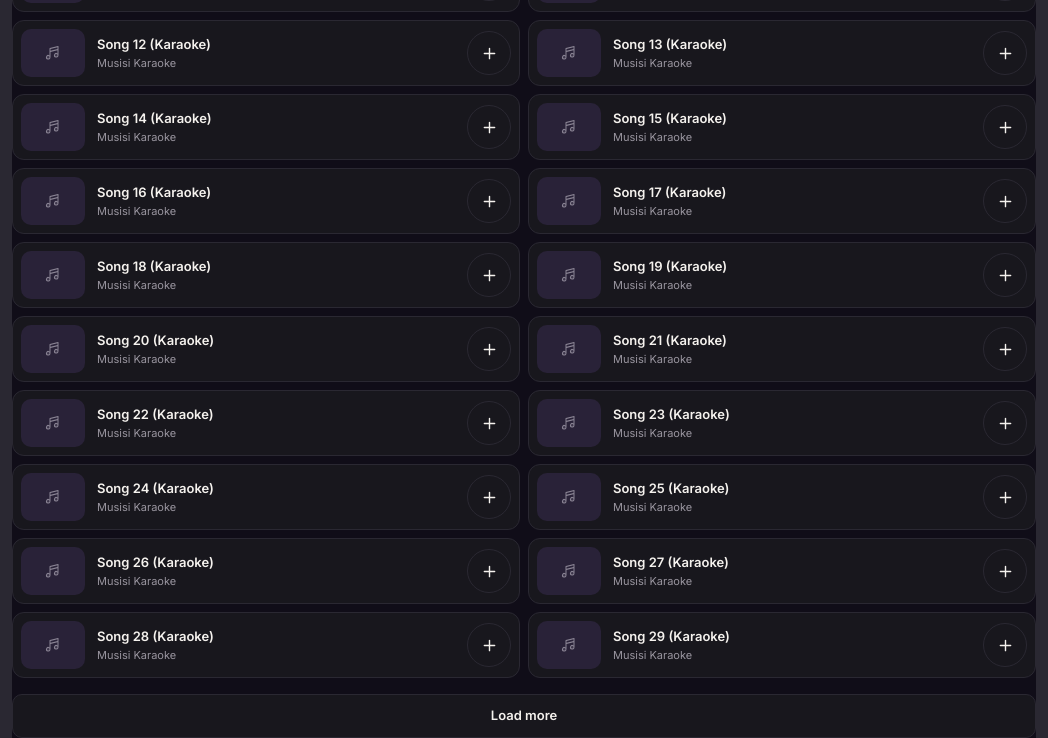
songbook list › appends a page without repeating a song already on screen
The image size is (1048, 738).
(page scrolled)
What coordinates should you click on to do the following:
click the button "Load more"
I would click on:
 (524, 716)
Its box is x1=12 y1=694 x2=1036 y2=737.
(page scrolled)
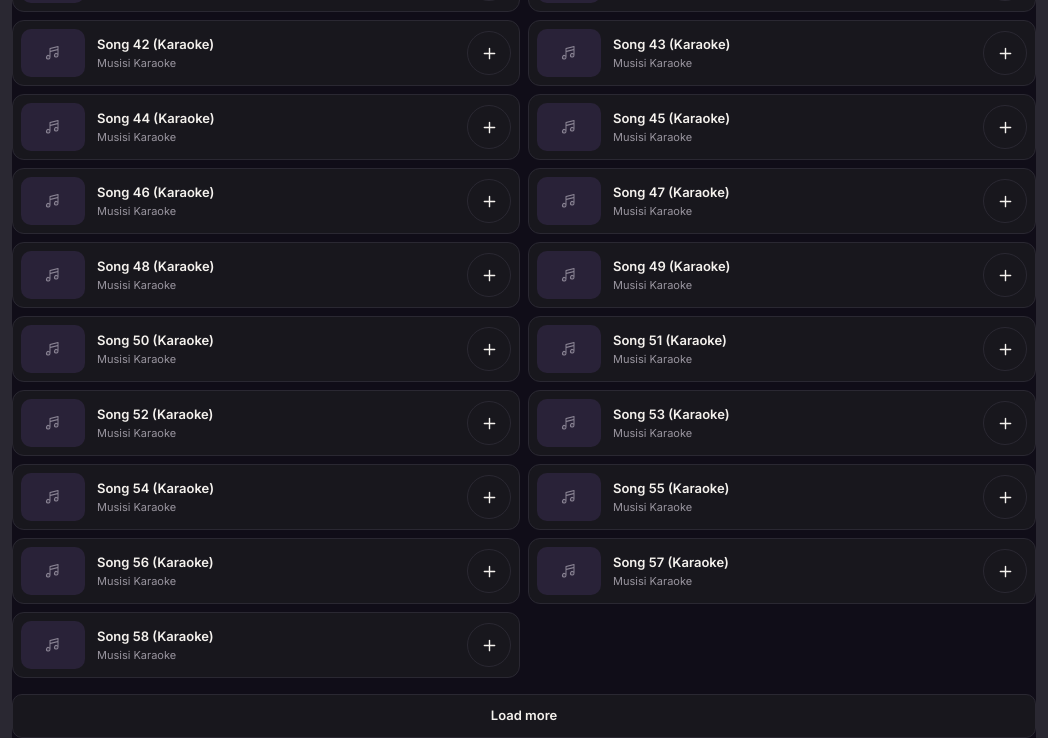
Expected: the text "Song 58 (Karaoke)" is shown, x1=97 y1=628 x2=214 y2=644
